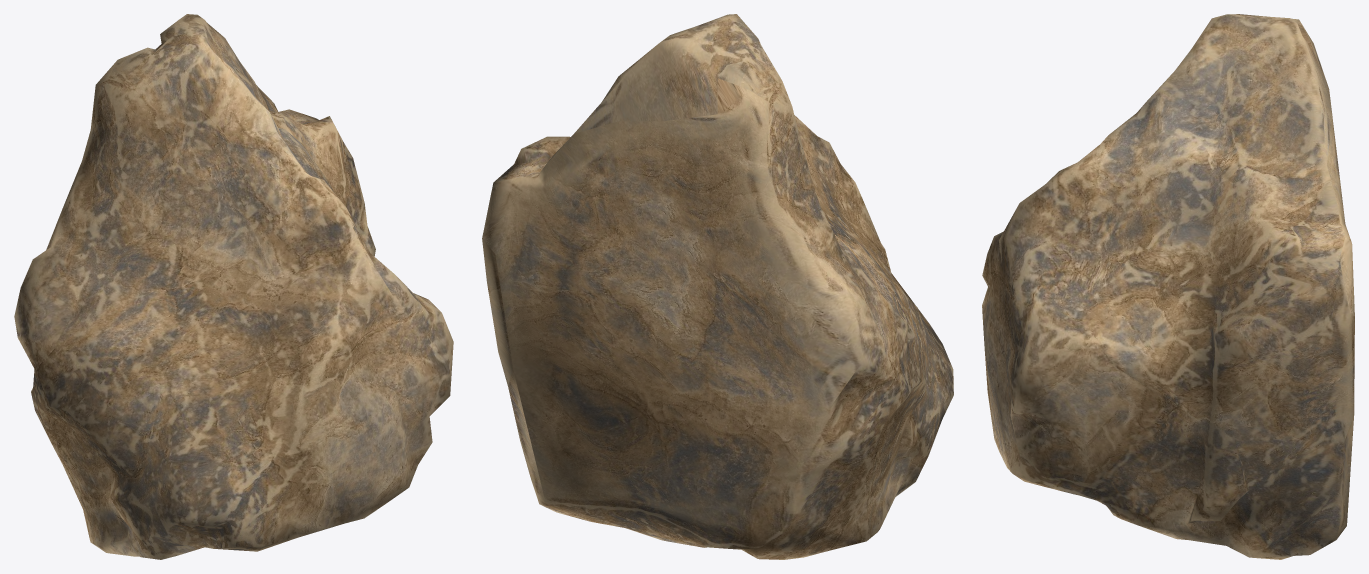
File: cliff_rock.glb
3 views of the same model, side by side, from view 1: azimuth 30°, elevation 25°; view 2: azimuth 150°, elevation 25°; view 3: azimuth 270°, elevation 25° (orthographic). The views are drawn at different scales.
Visible parts, largest first — view 1: CliffRock; view 2: CliffRock; view 3: CliffRock.
Boxes of the visible parts, x1,y1,x2,y2 form: CliffRock: (14, 14, 453, 559); CliffRock: (482, 14, 953, 559); CliffRock: (982, 14, 1354, 559).
Size of the model in its own units: 0.2532 by 0.3406 by 0.2338.
1 material, 1 textured.
